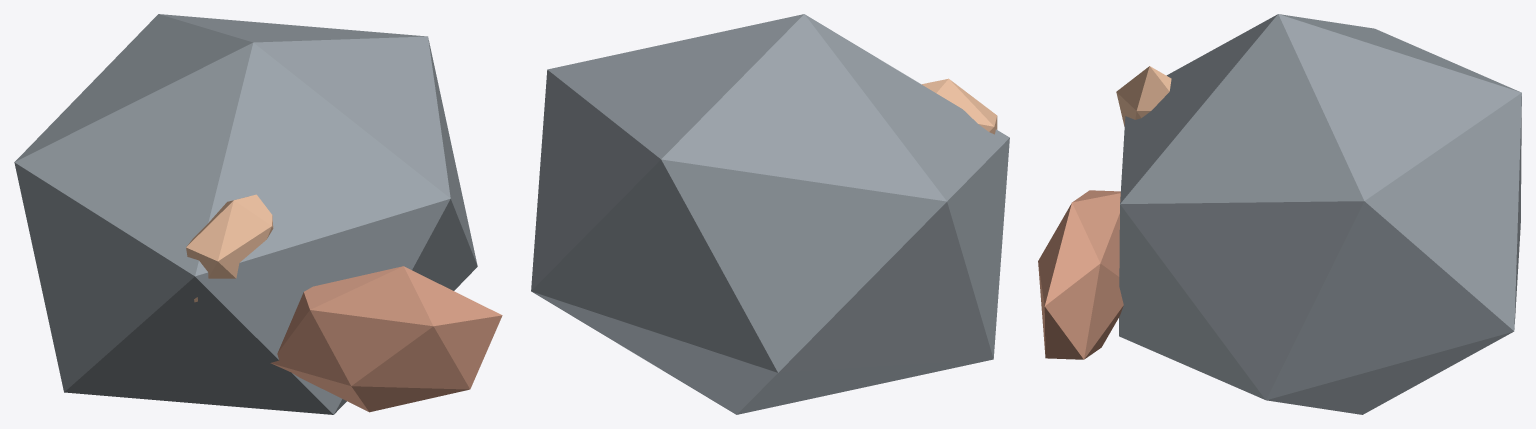
File: drop_iron_ore.glb
3 renders of one model, left to right at view 1: azimuth 30°, elevation 25°; view 2: azimuth 150°, elevation 25°; view 3: azimuth 270°, elevation 25°, orthographic. The views are drawn at different scales.
Visible parts, largest first — view 1: DroppedOreRock, DroppedOreVein, DroppedOreHighlight; view 2: DroppedOreRock, DroppedOreHighlight; view 3: DroppedOreRock, DroppedOreVein, DroppedOreHighlight.
Part boxes in pixels (<box>): DroppedOreRock: <box>14,14,477,414</box>; DroppedOreVein: <box>270,266,502,412</box>; DroppedOreHighlight: <box>186,194,273,302</box>; DroppedOreRock: <box>531,14,1009,414</box>; DroppedOreHighlight: <box>922,78,997,134</box>; DroppedOreRock: <box>1119,14,1521,414</box>; DroppedOreVein: <box>1038,190,1123,359</box>; DroppedOreHighlight: <box>1116,66,1171,126</box>.
Bounding box in the file's own units: 0.3196 × 0.2838 × 0.3211.
